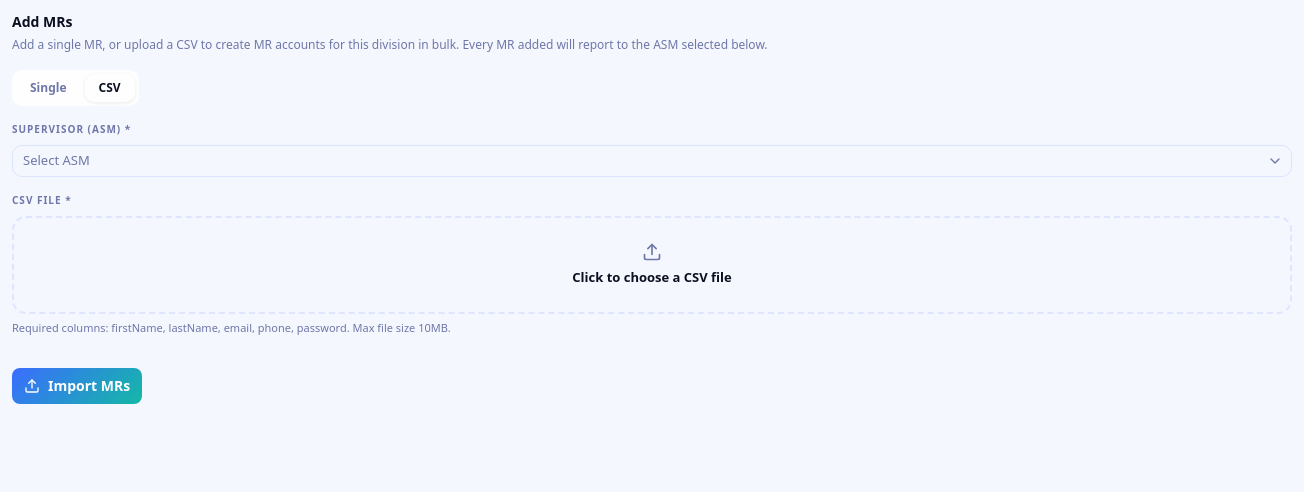
it: MrProvisioningCard — single add › blocks submit with no ASM selected
Click the button "Single" at (48,88), box top-left (16, 74), bottom-right (80, 102)
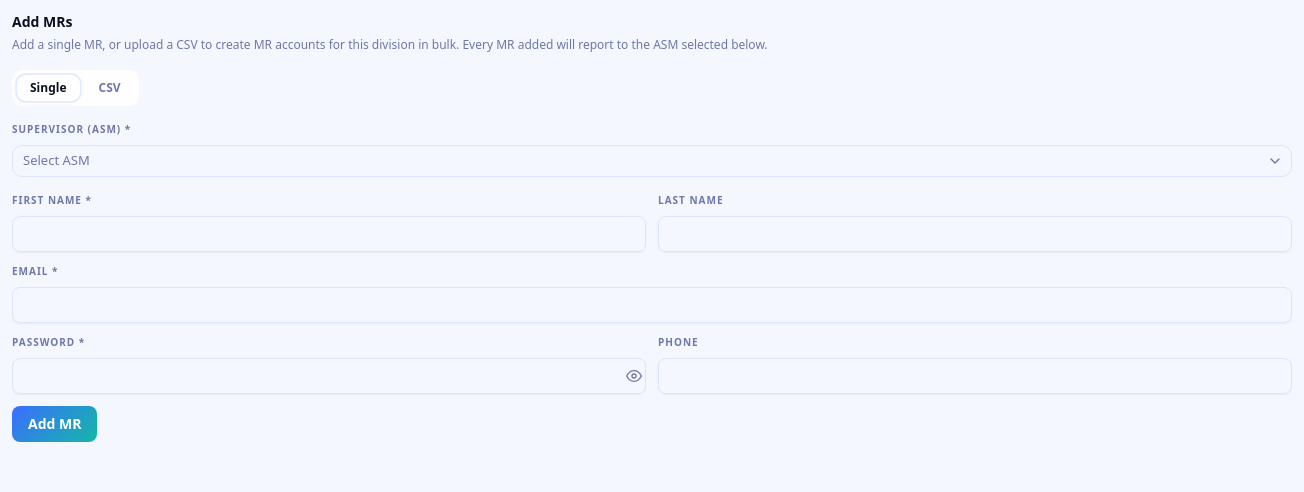
Type "Alice" into the field labelled "First name *" at (329,234), box top-left (12, 216), bottom-right (646, 252)
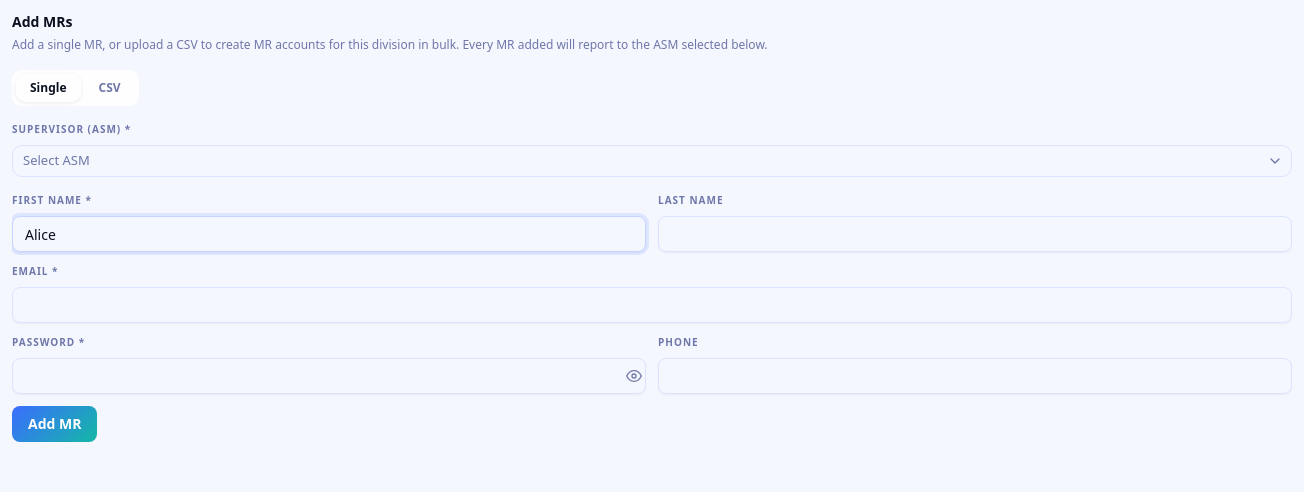
Type "alice@example.com" into the field labelled "Email *" at (652,305), box top-left (12, 287), bottom-right (1292, 323)
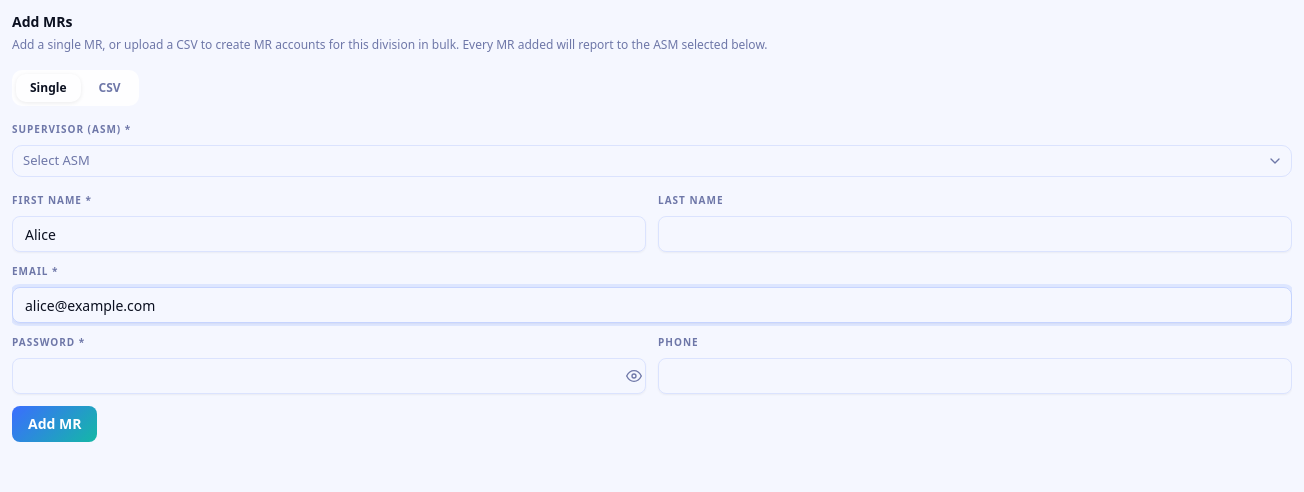
Type "password1" into the password field labelled "Password *" at (329,376), box top-left (12, 358), bottom-right (646, 394)
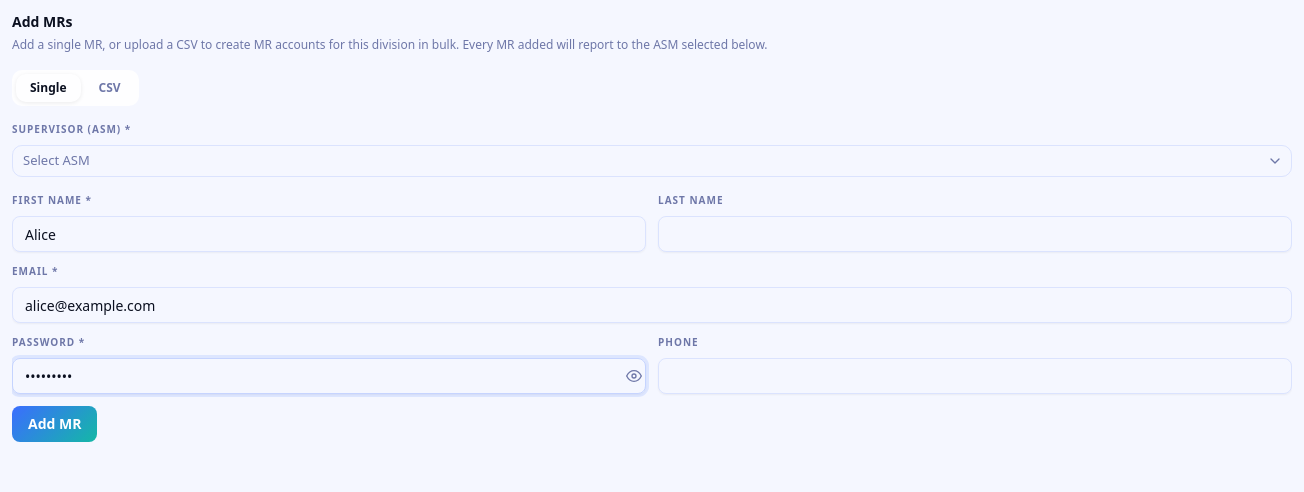
Click the button "Add MR" at (55,424), box top-left (12, 406), bottom-right (98, 442)
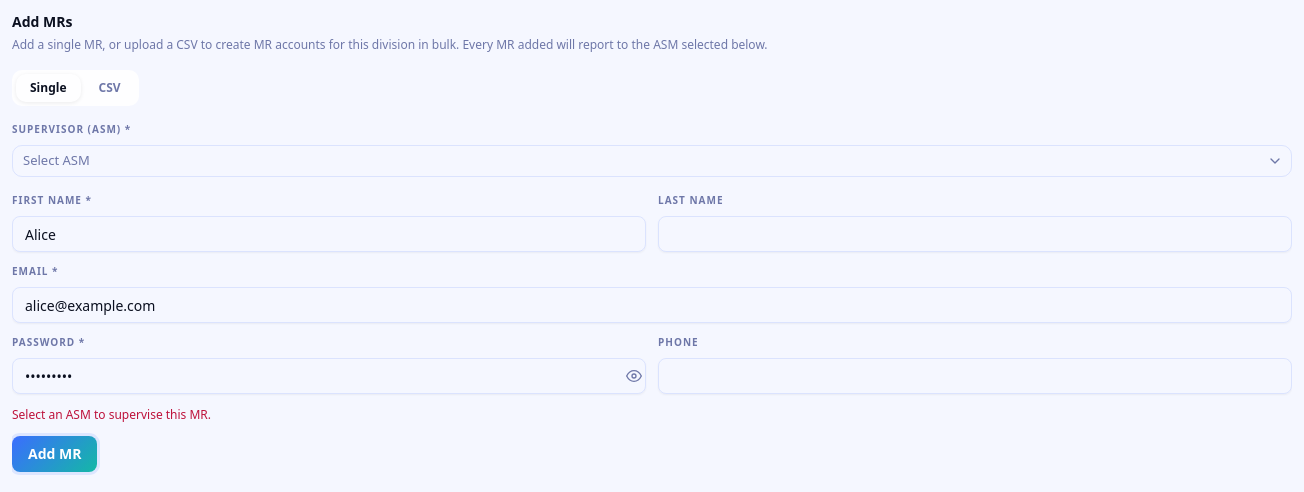
Expected: the text "Select an ASM to supervise this MR." is shown, top-left (12, 406), bottom-right (211, 423)
